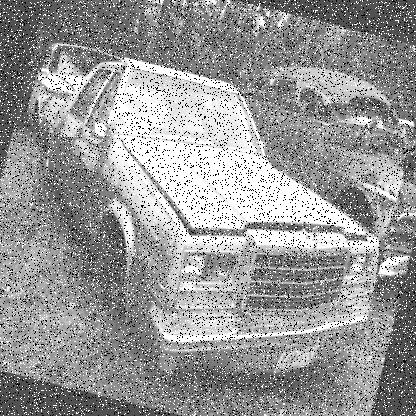Car: (0, 43, 415, 415), (197, 49, 415, 294), (23, 35, 125, 147), (321, 102, 415, 177)
